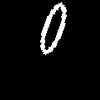chain: (40, 2, 66, 54)
